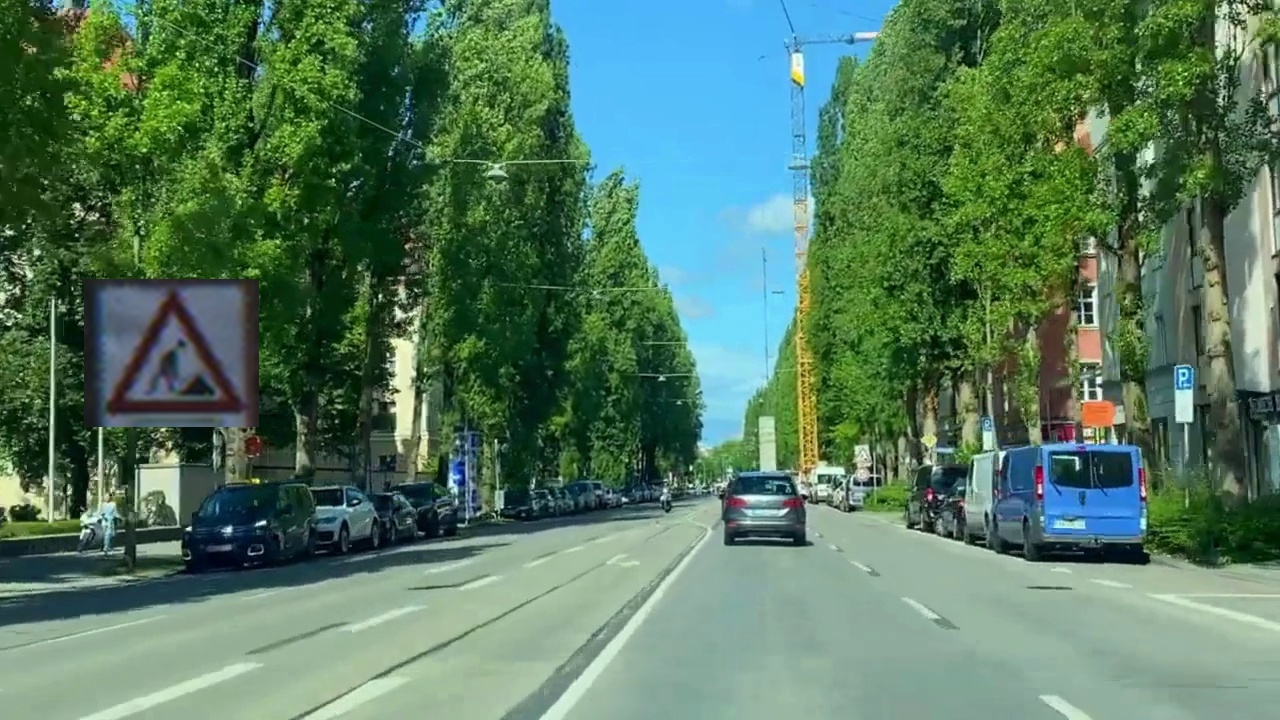Road work: (84, 279, 259, 427)
